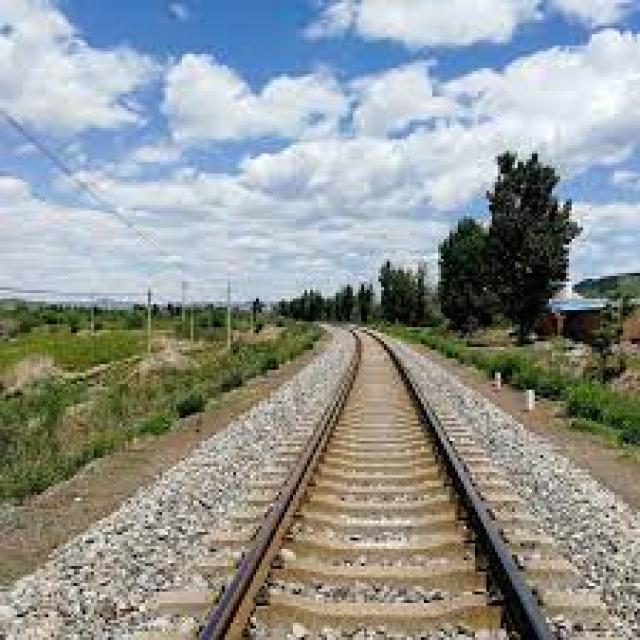rail-track: (244, 334, 508, 639)
